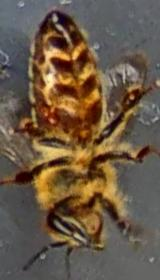varroa_mite: (30, 94, 64, 133)
